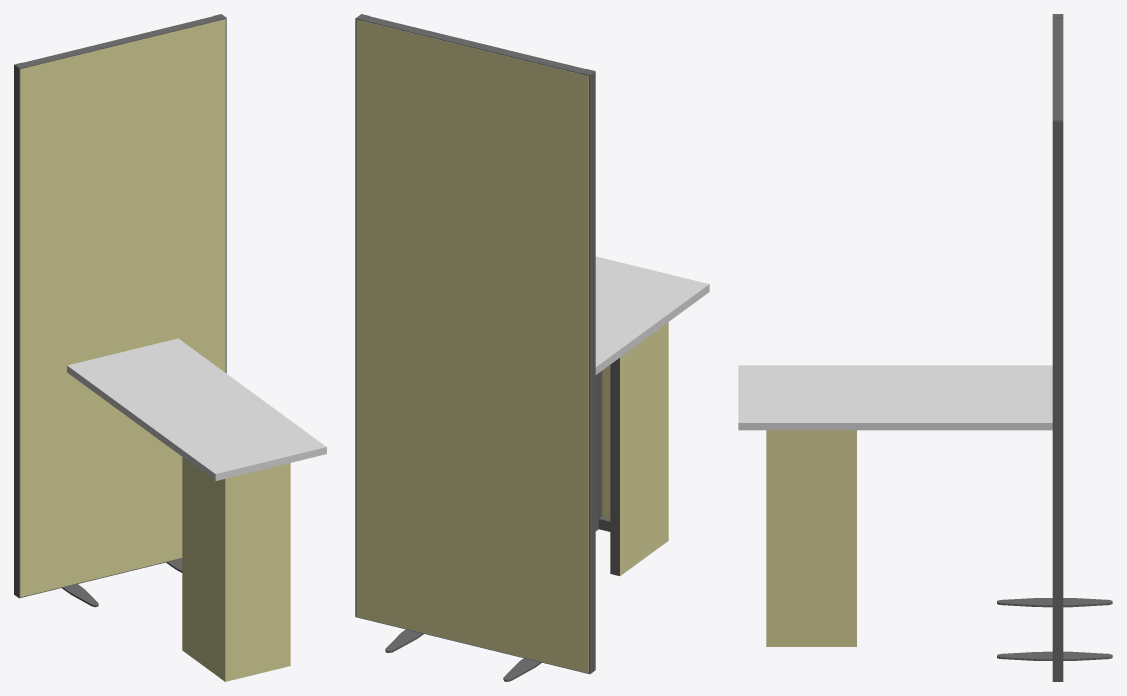
The model's file is Console Module.glb.
3 renders of one model, left to right at view 1: azimuth 30°, elevation 25°; view 2: azimuth 150°, elevation 25°; view 3: azimuth 270°, elevation 25°, orthographic. The views are drawn at different scales.
Parts seen in each view (by area): view 1: Standard 38.029; view 2: toggle_back_panel.014, Standard 38.029, toggle_feet_center; view 3: Standard 38.029, toggle_feet_center.
Boxes of the visible parts, left/top/right/bottom form: Standard 38.029: left=14, top=14, right=326, bottom=681; toggle_back_panel.014: left=356, top=20, right=588, bottom=673; Standard 38.029: left=355, top=14, right=709, bottom=674; toggle_feet_center: left=385, top=629, right=541, bottom=681; Standard 38.029: left=738, top=14, right=1063, bottom=681; toggle_feet_center: left=1003, top=598, right=1112, bottom=660.
Bounding box in the file's own units: 0.969 × 2.37 × 1.43.
